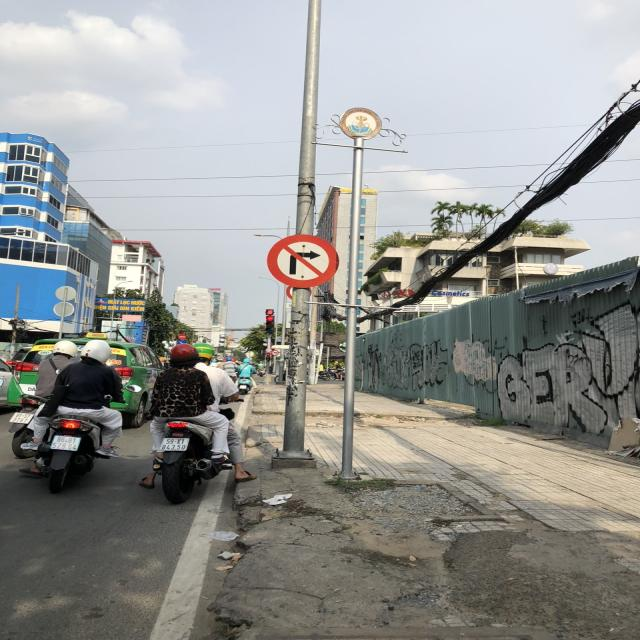Bien bao cam re phai: (256, 227, 350, 289)
